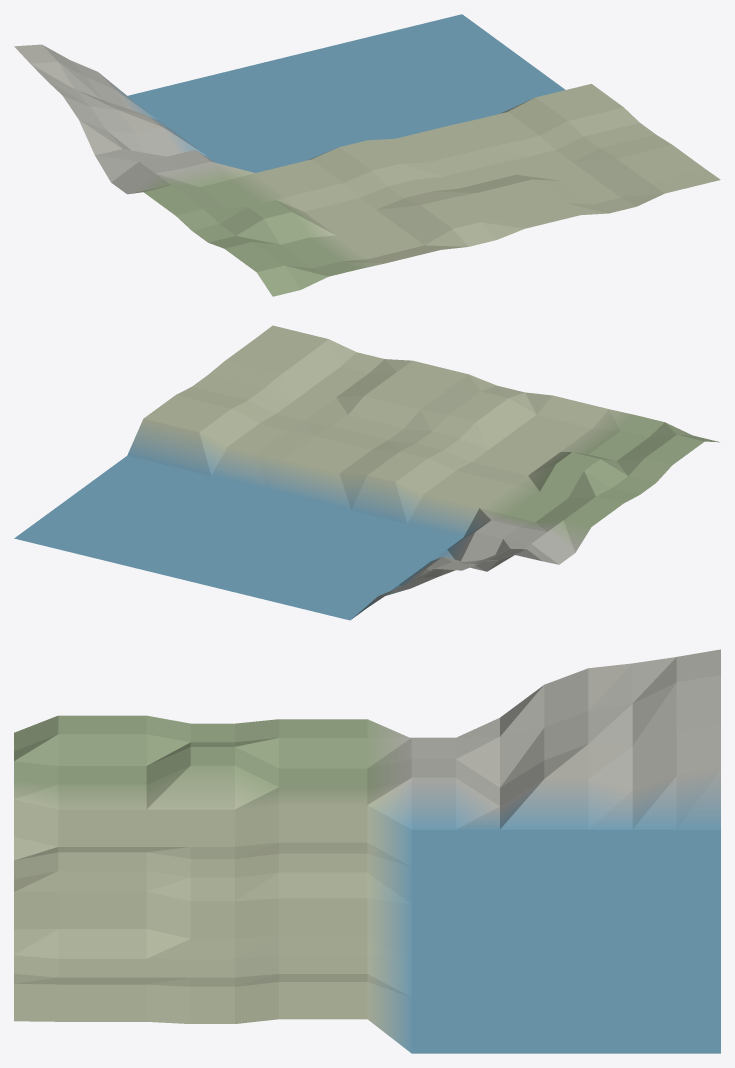
3 renders of one model, top to bottom at view 1: azimuth 30°, elevation 25°; view 2: azimuth 150°, elevation 25°; view 3: azimuth 270°, elevation 25°, orthographic. The views are drawn at different scales.
Bounding box in the file's own units: 32 × 5.27 × 32.
